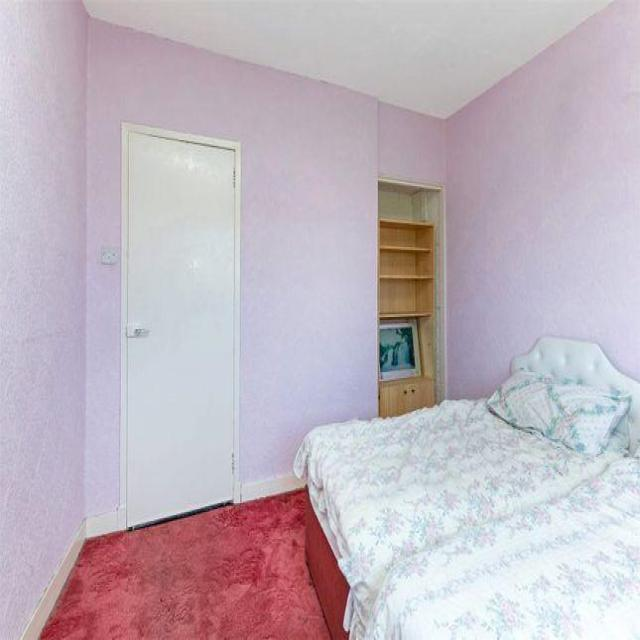Wall: (0, 0, 640, 637), (84, 1, 610, 118), (41, 491, 329, 639)
